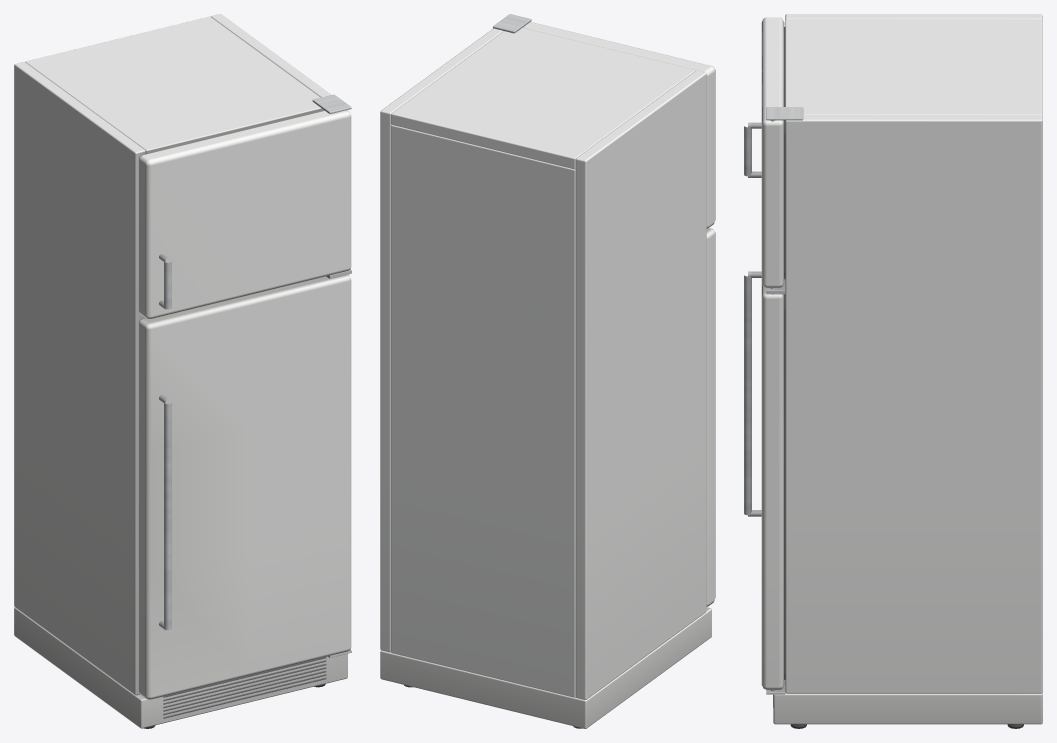
Rendered from int_geladeira.glb.
3 views of the same model, side by side, from view 1: azimuth 30°, elevation 25°; view 2: azimuth 150°, elevation 25°; view 3: azimuth 270°, elevation 25° (orthographic). The views are drawn at different scales.
Parts seen in each view (by area): view 1: corpo, porta_geladeira, porta_freezer; view 2: corpo, porta_geladeira, porta_freezer; view 3: corpo, porta_geladeira, porta_freezer.
Part boxes in pixels (box(x1,y1,x2,y2)): corpo: box(14, 14, 351, 728); porta_geladeira: box(138, 274, 351, 699); porta_freezer: box(138, 110, 351, 318); corpo: box(380, 14, 711, 728); porta_geladeira: box(706, 228, 715, 606); porta_freezer: box(522, 22, 715, 228); corpo: box(766, 14, 1042, 728); porta_geladeira: box(744, 271, 785, 689); porta_freezer: box(744, 17, 785, 287).
Size of the model in its own units: 0.56 by 1.51 by 0.6608.
Materials: 6 (6 with a texture image).
